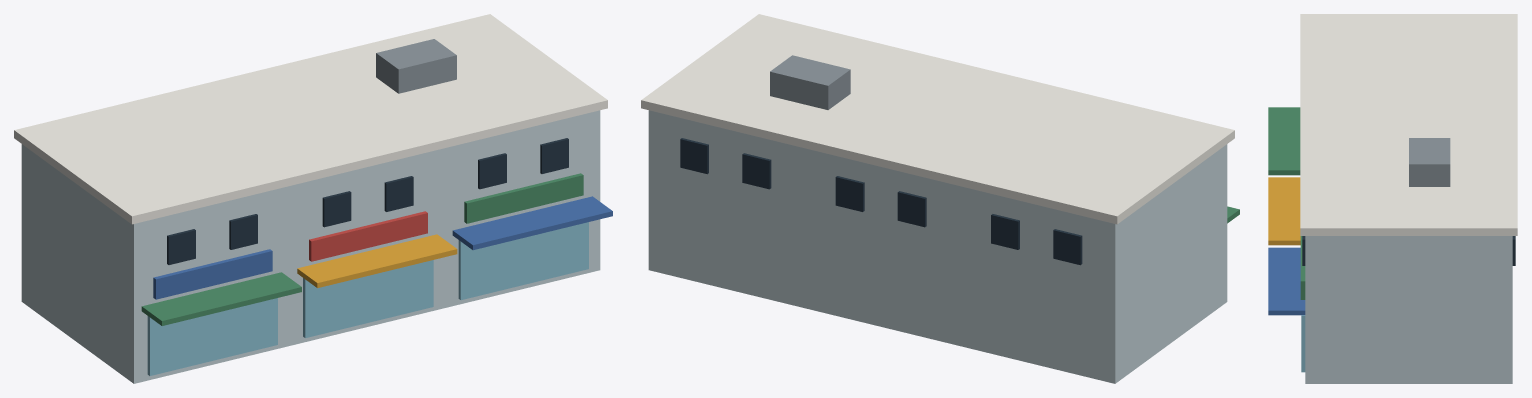
File: shops_1.glb
The picture shows the model from 3 angles, left to right: view 1: azimuth 30°, elevation 25°; view 2: azimuth 150°, elevation 25°; view 3: azimuth 270°, elevation 25°; orthographic projection. The views are drawn at different scales.
Parts seen in each view (by area): view 1: Cube.001; view 2: Cube.001; view 3: Cube.001.
Part boxes in pixels (x1=…): Cube.001: x1=14, y1=14, x2=612, y2=383; Cube.001: x1=641, y1=14, x2=1239, y2=383; Cube.001: x1=1268, y1=14, x2=1517, y2=383.
Size of the model in its own units: 24.5 by 9.6 by 12.05.
